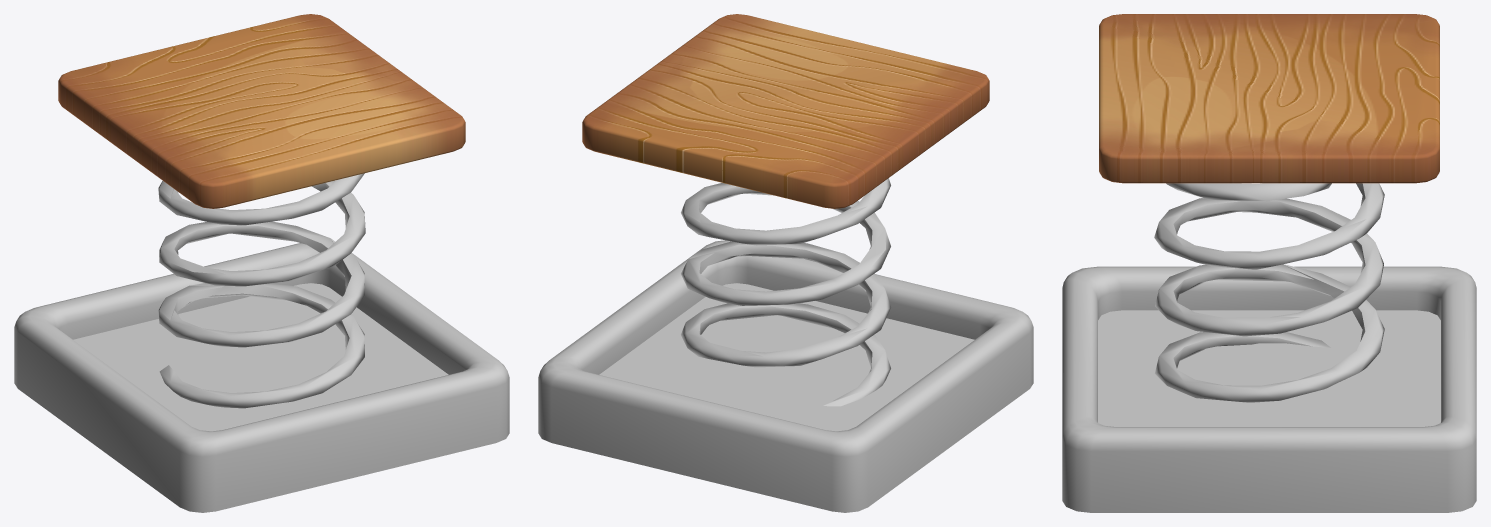
The model's file is Obstacle8.fbx.
The picture shows the model from 3 angles, left to right: view 1: azimuth 30°, elevation 25°; view 2: azimuth 150°, elevation 25°; view 3: azimuth 270°, elevation 25°; orthographic projection. The views are drawn at different scales.
Visible parts, largest first — view 1: Obstacle-8.000, Obstacle-8.001; view 2: Obstacle-8.000, Obstacle-8.001; view 3: Obstacle-8.000, Obstacle-8.001.
Part boxes in pixels (<box>): Obstacle-8.000: <box>14,243,509,512</box>; Obstacle-8.001: <box>58,14,465,408</box>; Obstacle-8.000: <box>538,240,1033,512</box>; Obstacle-8.001: <box>582,14,989,406</box>; Obstacle-8.000: <box>1062,266,1476,512</box>; Obstacle-8.001: <box>1099,14,1439,402</box>.
Bounding box in the file's own units: 100 × 90.68 × 100.
